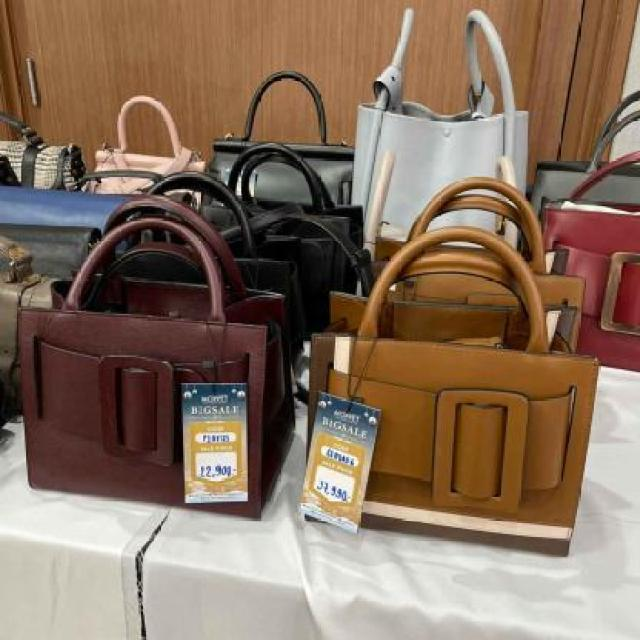Bag: (281, 184, 640, 572), (0, 198, 278, 535)
